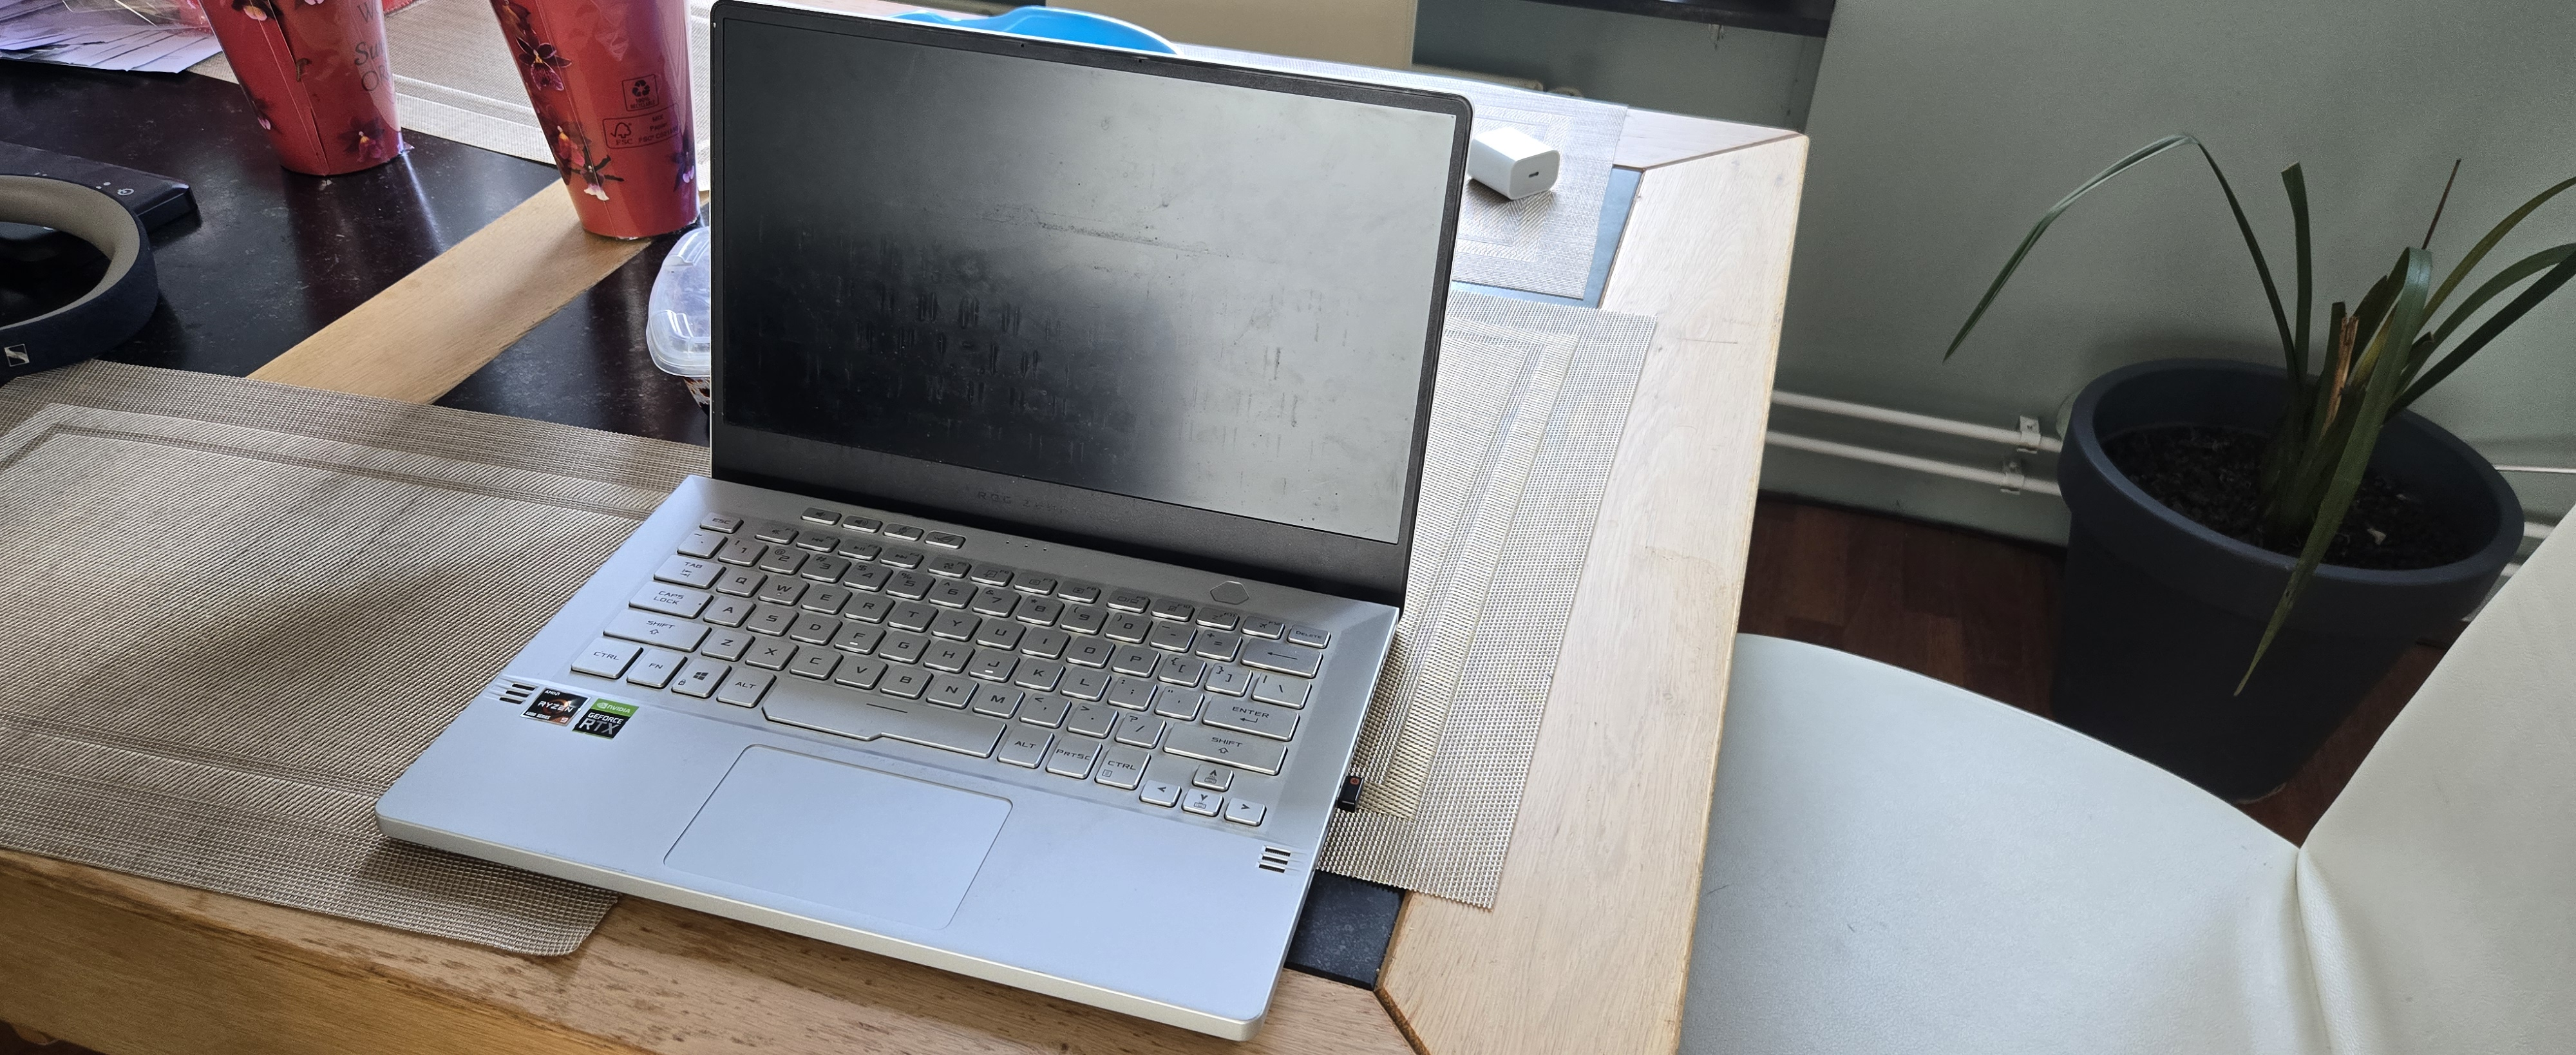laptop: (337, 0, 1508, 1052)
